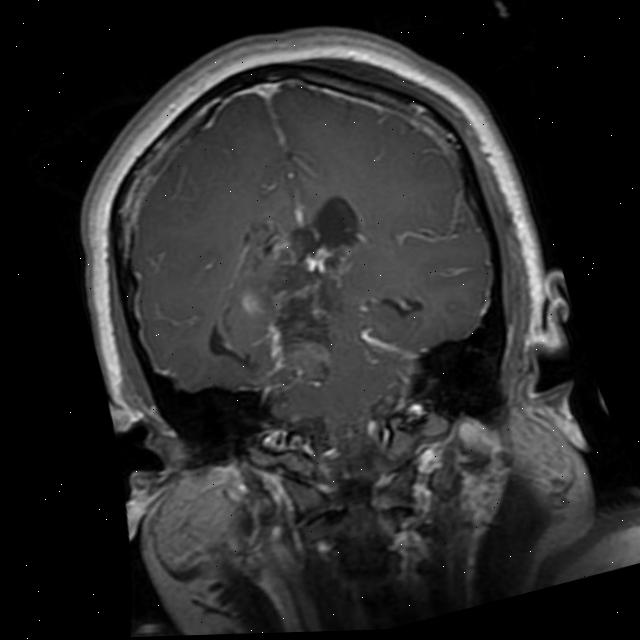Glioma: (238, 276, 355, 400), (236, 199, 356, 291)
